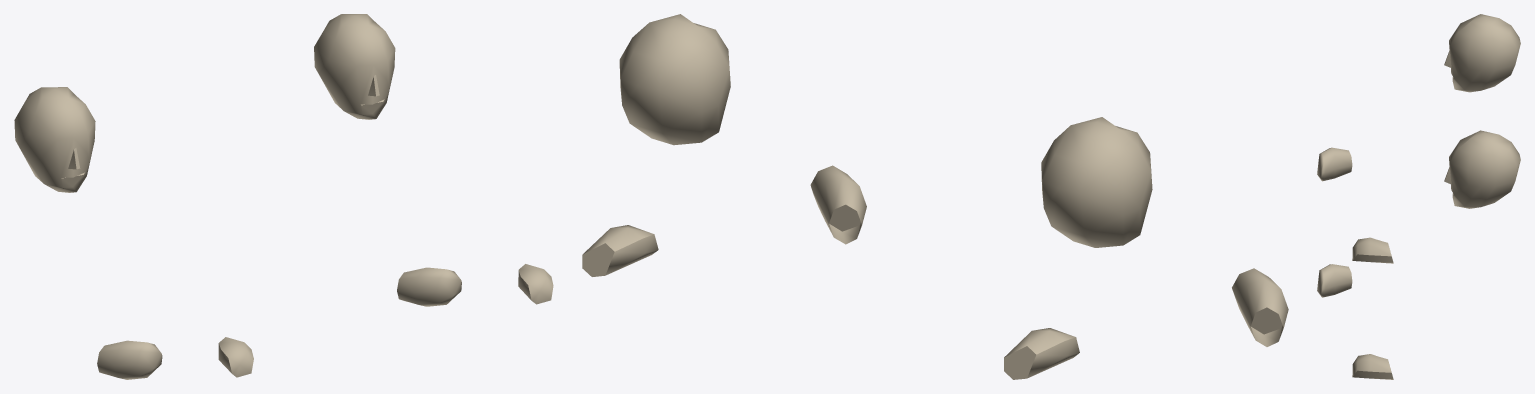
Rendered from m_airlift_76710a14.glb.
The picture shows the model from 3 angles, left to right: view 1: azimuth 30°, elevation 25°; view 2: azimuth 150°, elevation 25°; view 3: azimuth 270°, elevation 25°; orthographic projection. The views are drawn at different scales.
Parts seen in each view (by area): view 1: mesh; view 2: mesh; view 3: mesh.
Part boxes in pixels (x1,y1,x2,y2): mesh: (14, 14, 553, 379); mesh: (582, 14, 1288, 379); mesh: (1317, 14, 1520, 379).
Size of the model in its own units: 1663 by 856 by 784.
